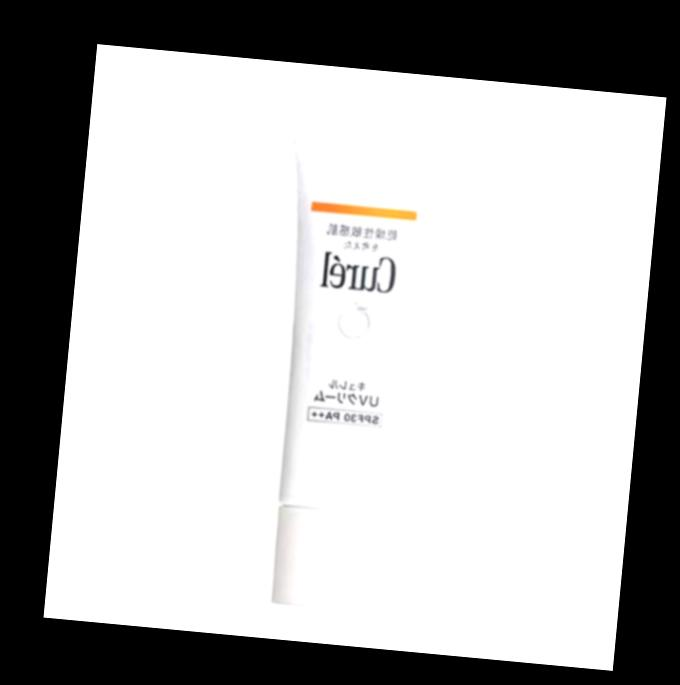cosmetic: (251, 122, 449, 613)
